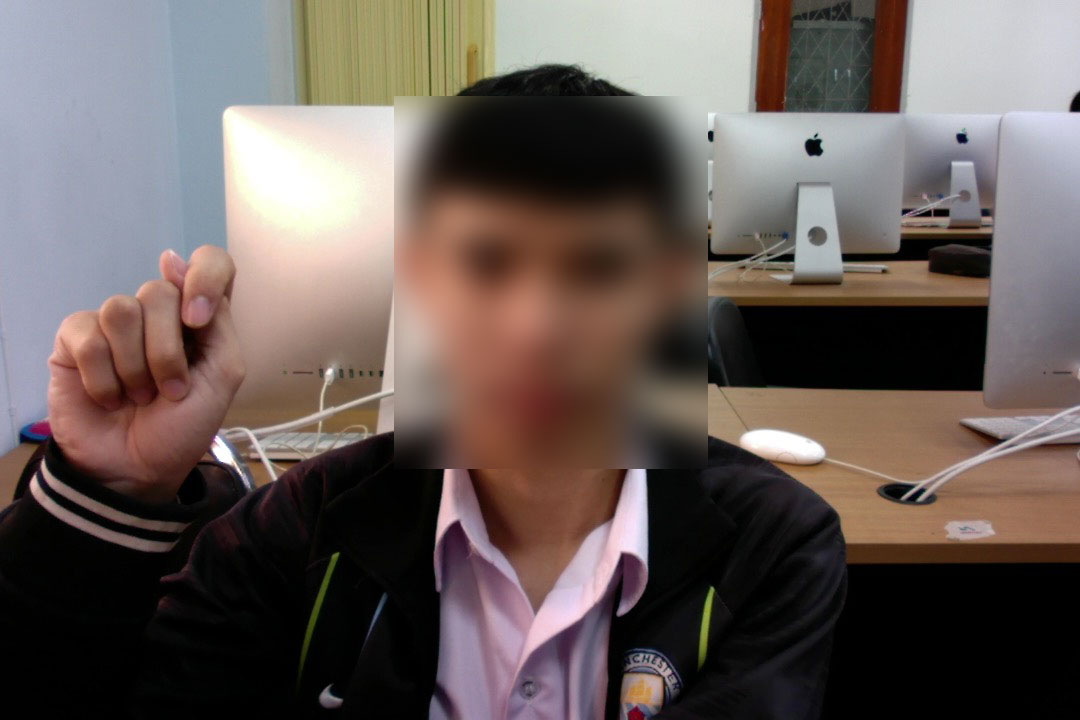tor: (40, 245, 251, 526)
